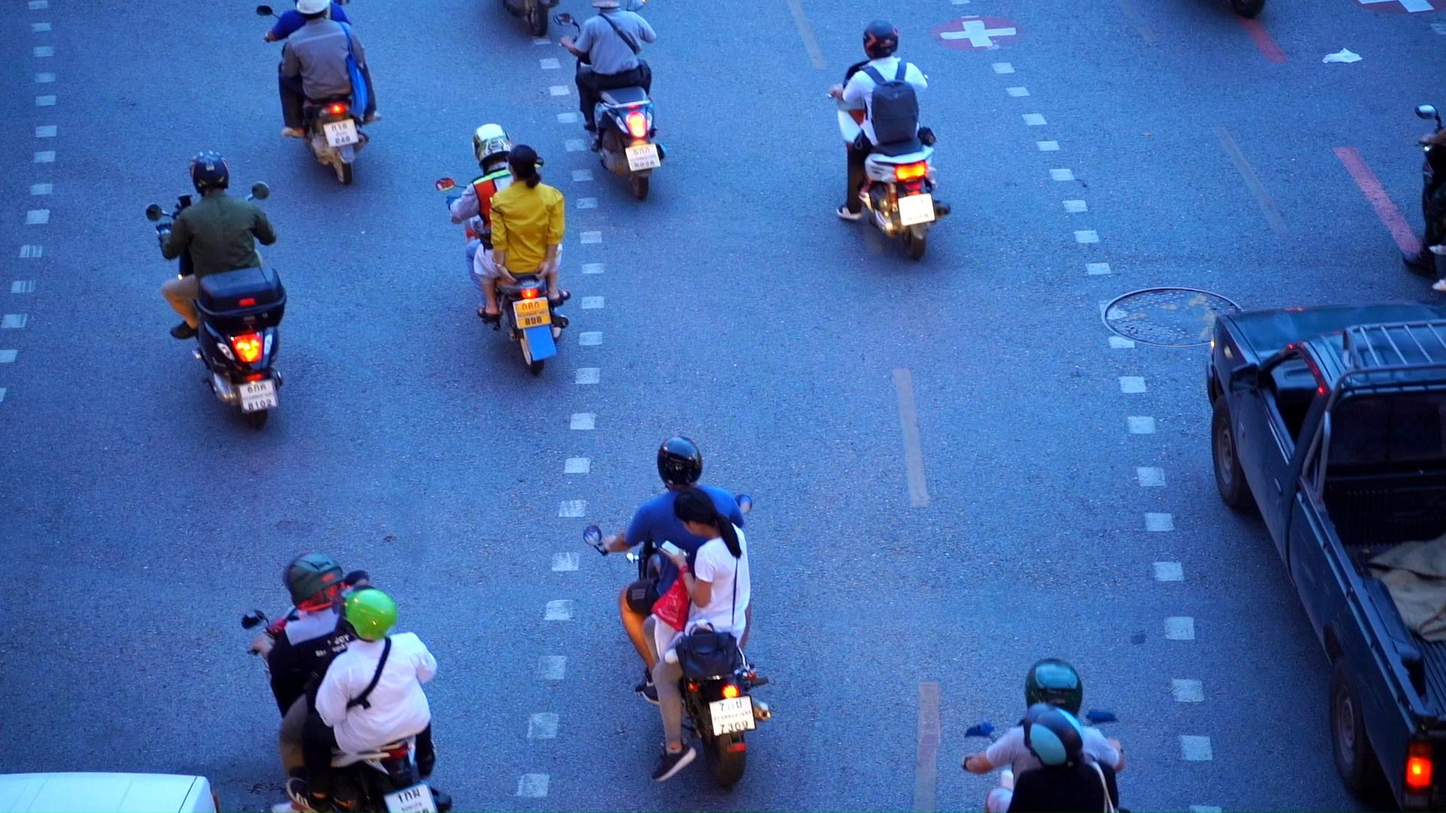driver: (583, 434, 773, 793), (242, 552, 451, 813), (145, 149, 290, 429), (436, 123, 571, 375), (827, 19, 951, 259), (959, 658, 1130, 813), (256, 0, 382, 186), (553, 0, 669, 199)
helmet: (1023, 703, 1084, 771), (333, 584, 397, 643), (282, 553, 346, 611), (1024, 658, 1083, 719), (657, 434, 702, 491), (472, 123, 512, 170), (189, 149, 230, 194), (863, 19, 898, 60), (297, 0, 330, 20)
no-helmet: (674, 488, 740, 539), (506, 144, 541, 189)
